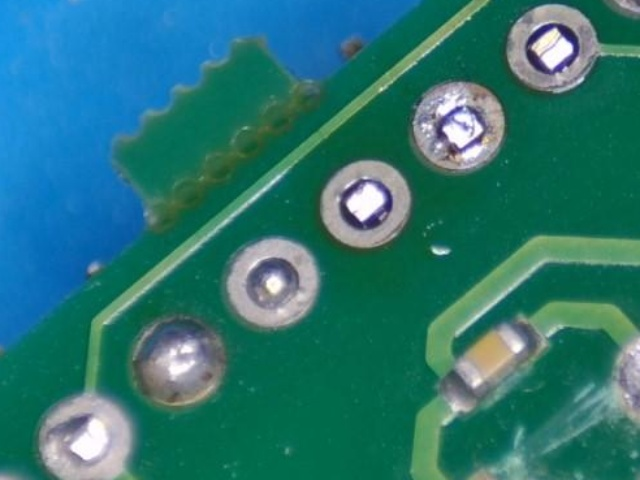pcb_defect: (226, 238, 317, 326), (413, 82, 505, 169), (131, 318, 222, 405), (39, 397, 131, 480), (620, 338, 640, 423)
